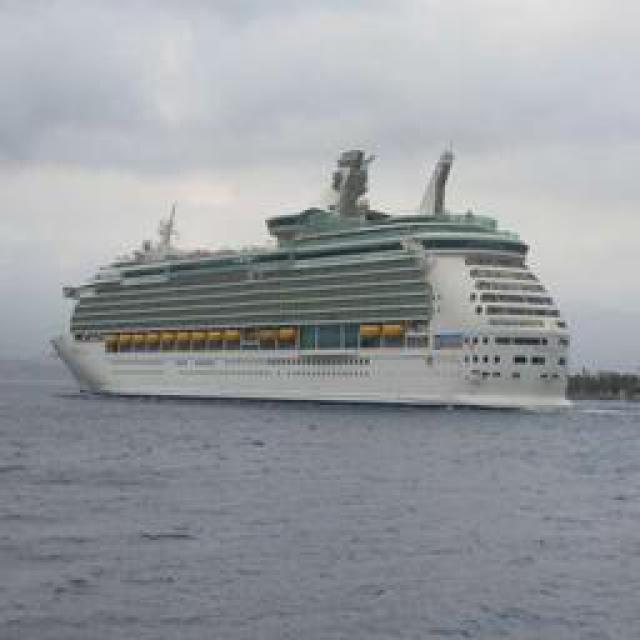Ship: (59, 141, 582, 409)
